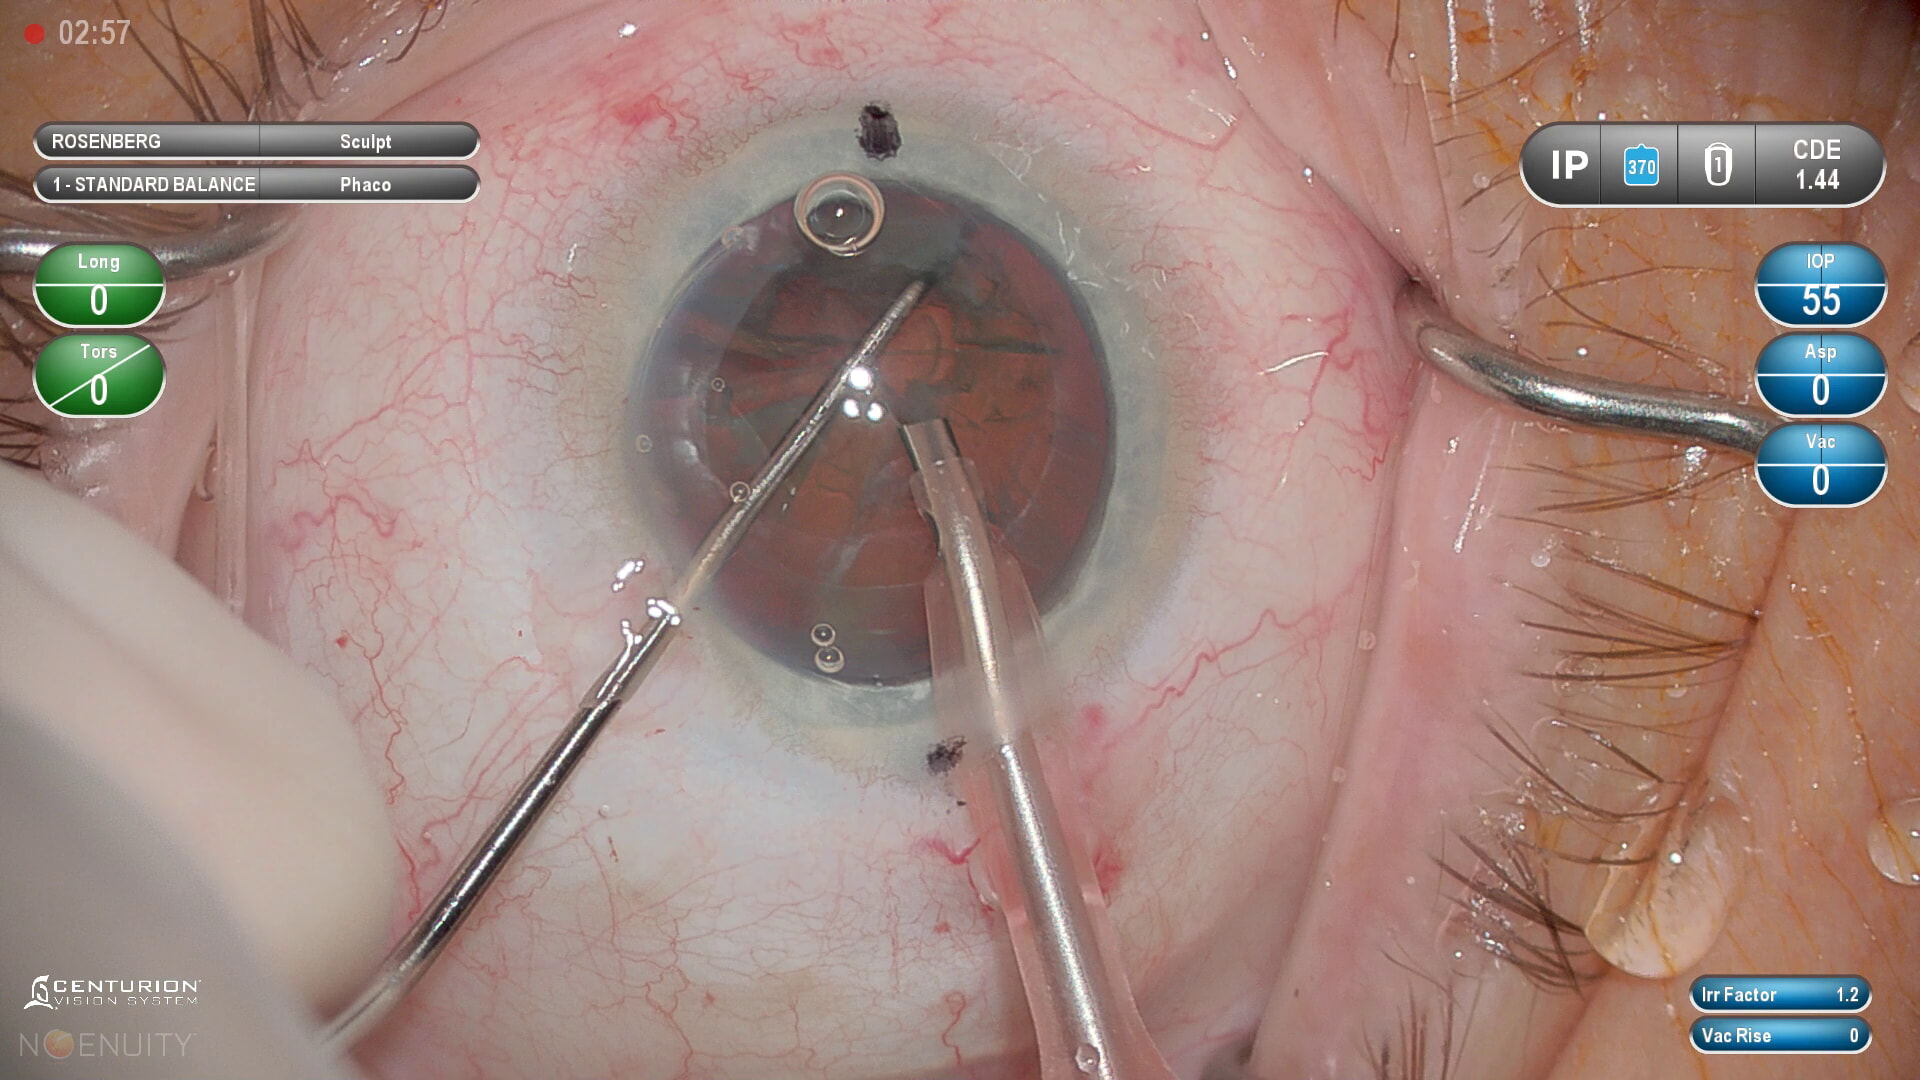iris: (596, 111, 1177, 753)
pupil: (642, 175, 1118, 682)
